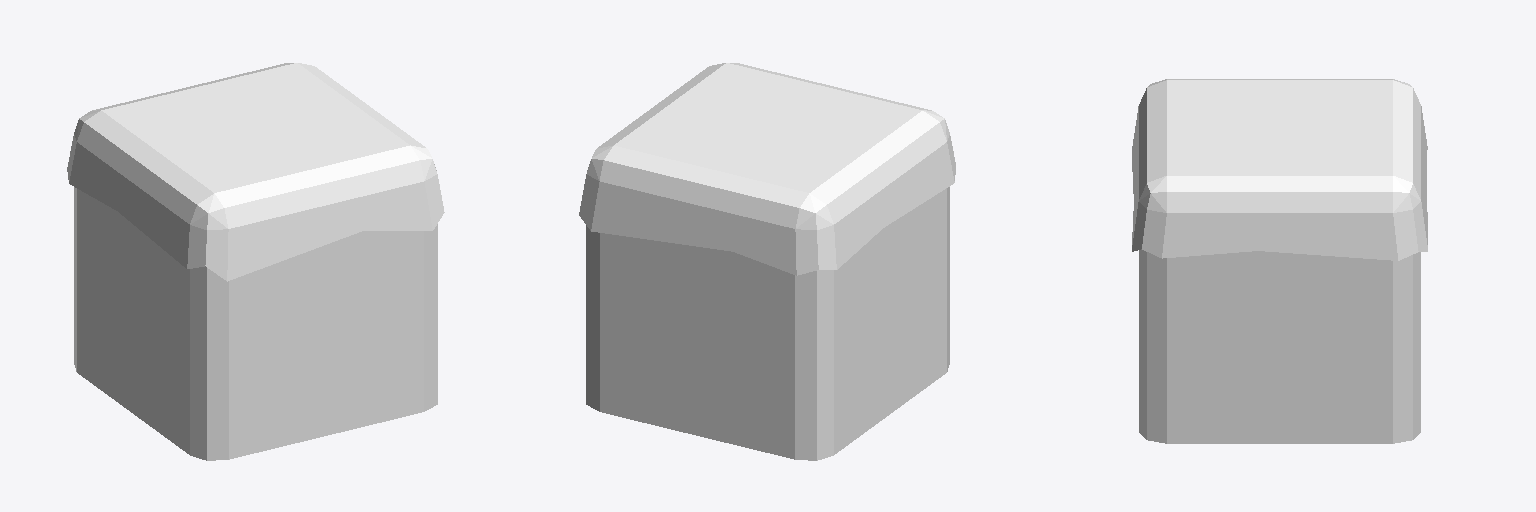
Rendered from Building_Top.obj.
The picture shows the model from 3 angles: view 1: azimuth 30°, elevation 25°; view 2: azimuth 150°, elevation 25°; view 3: azimuth 270°, elevation 25°; orthographic projection.
Parts seen in each view (by area): view 1: Grass_Top; view 2: Grass_Top; view 3: Grass_Top.
Boxes of the visible parts, x1=… form: Grass_Top: x1=67, y1=63, x2=444, y2=460; Grass_Top: x1=579, y1=63, x2=955, y2=460; Grass_Top: x1=1132, y1=79, x2=1427, y2=443.
Size of the model in its own units: 1.04 by 1 by 1.05.